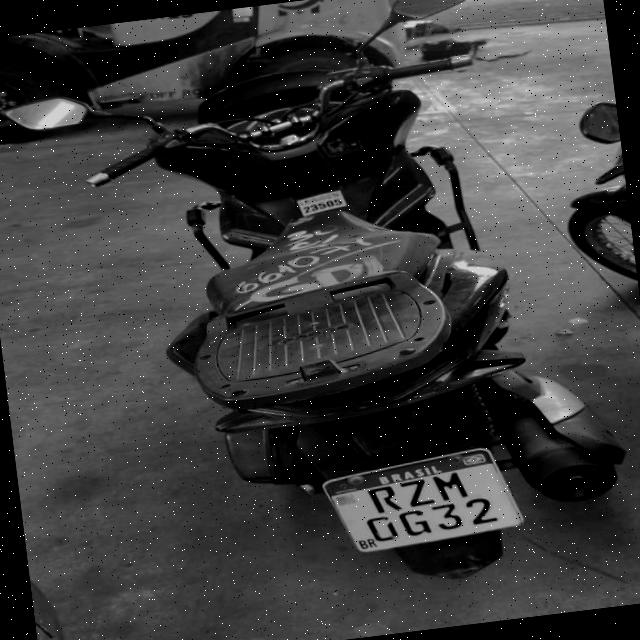numeros: (429, 469, 468, 502), (399, 476, 436, 508), (366, 484, 404, 515), (367, 512, 401, 544), (465, 494, 500, 525), (431, 501, 464, 532), (398, 508, 433, 536)
